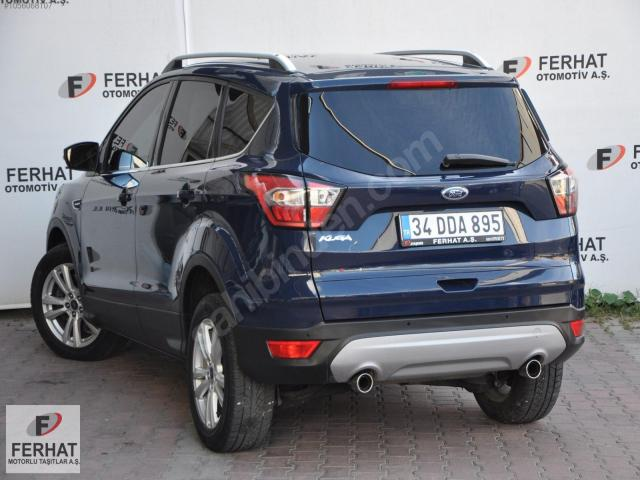plaka: (398, 210, 505, 246)
